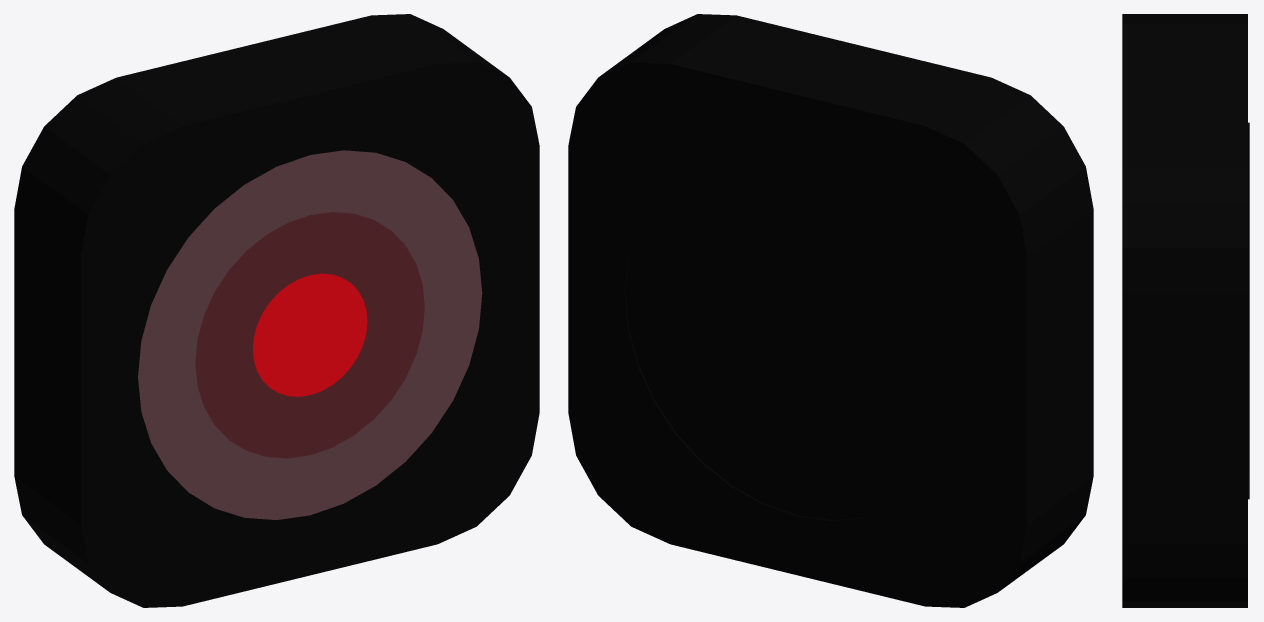
File: Targets 1.fbx
3 views of the same model, side by side, from view 1: azimuth 30°, elevation 25°; view 2: azimuth 150°, elevation 25°; view 3: azimuth 270°, elevation 25° (orthographic). The views are drawn at different scales.
Visible parts, largest first — view 1: Target; view 2: Target; view 3: Target.
Boxes of the visible parts, x1,y1,x2,y2 form: Target: (14,14,539,607); Target: (568,14,1093,607); Target: (1122,14,1249,607).
Bounding box in the file's own units: 400 × 400 × 102.
